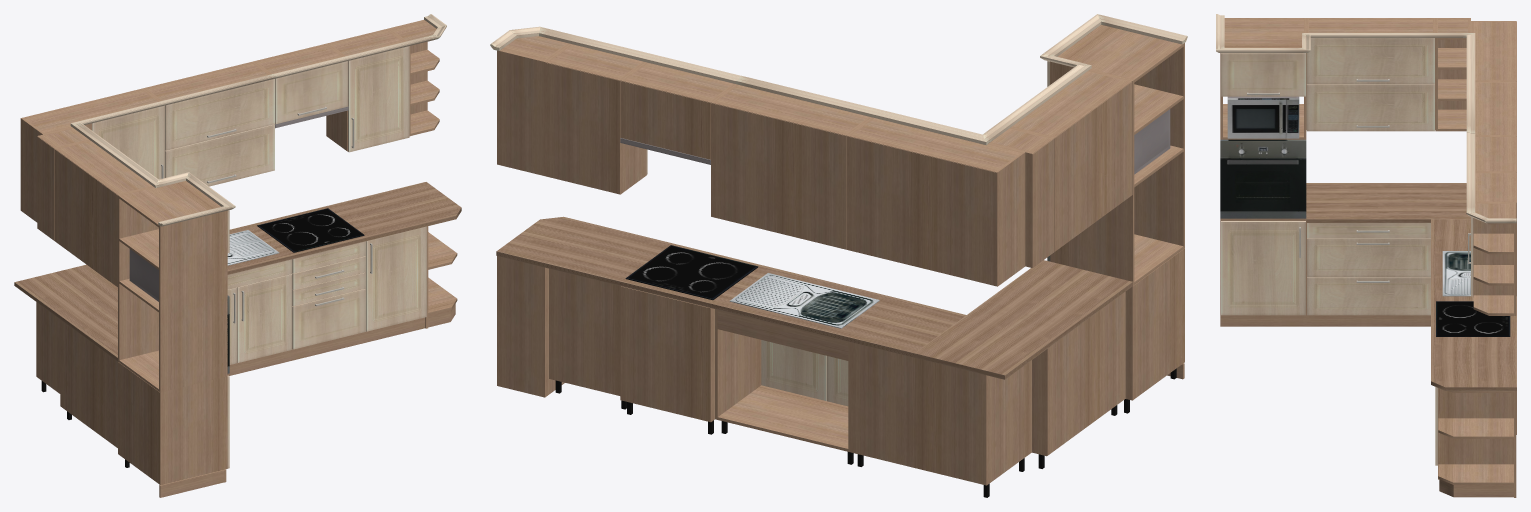
File: cabinetFull.glb
The picture shows the model from 3 angles, left to right: view 1: azimuth 30°, elevation 25°; view 2: azimuth 150°, elevation 25°; view 3: azimuth 270°, elevation 25°; orthographic projection. The views are drawn at different scales.
Size of the model in its own units: 0.3001 by 0.1895 by 0.1845.
32 materials, 32 textured.
